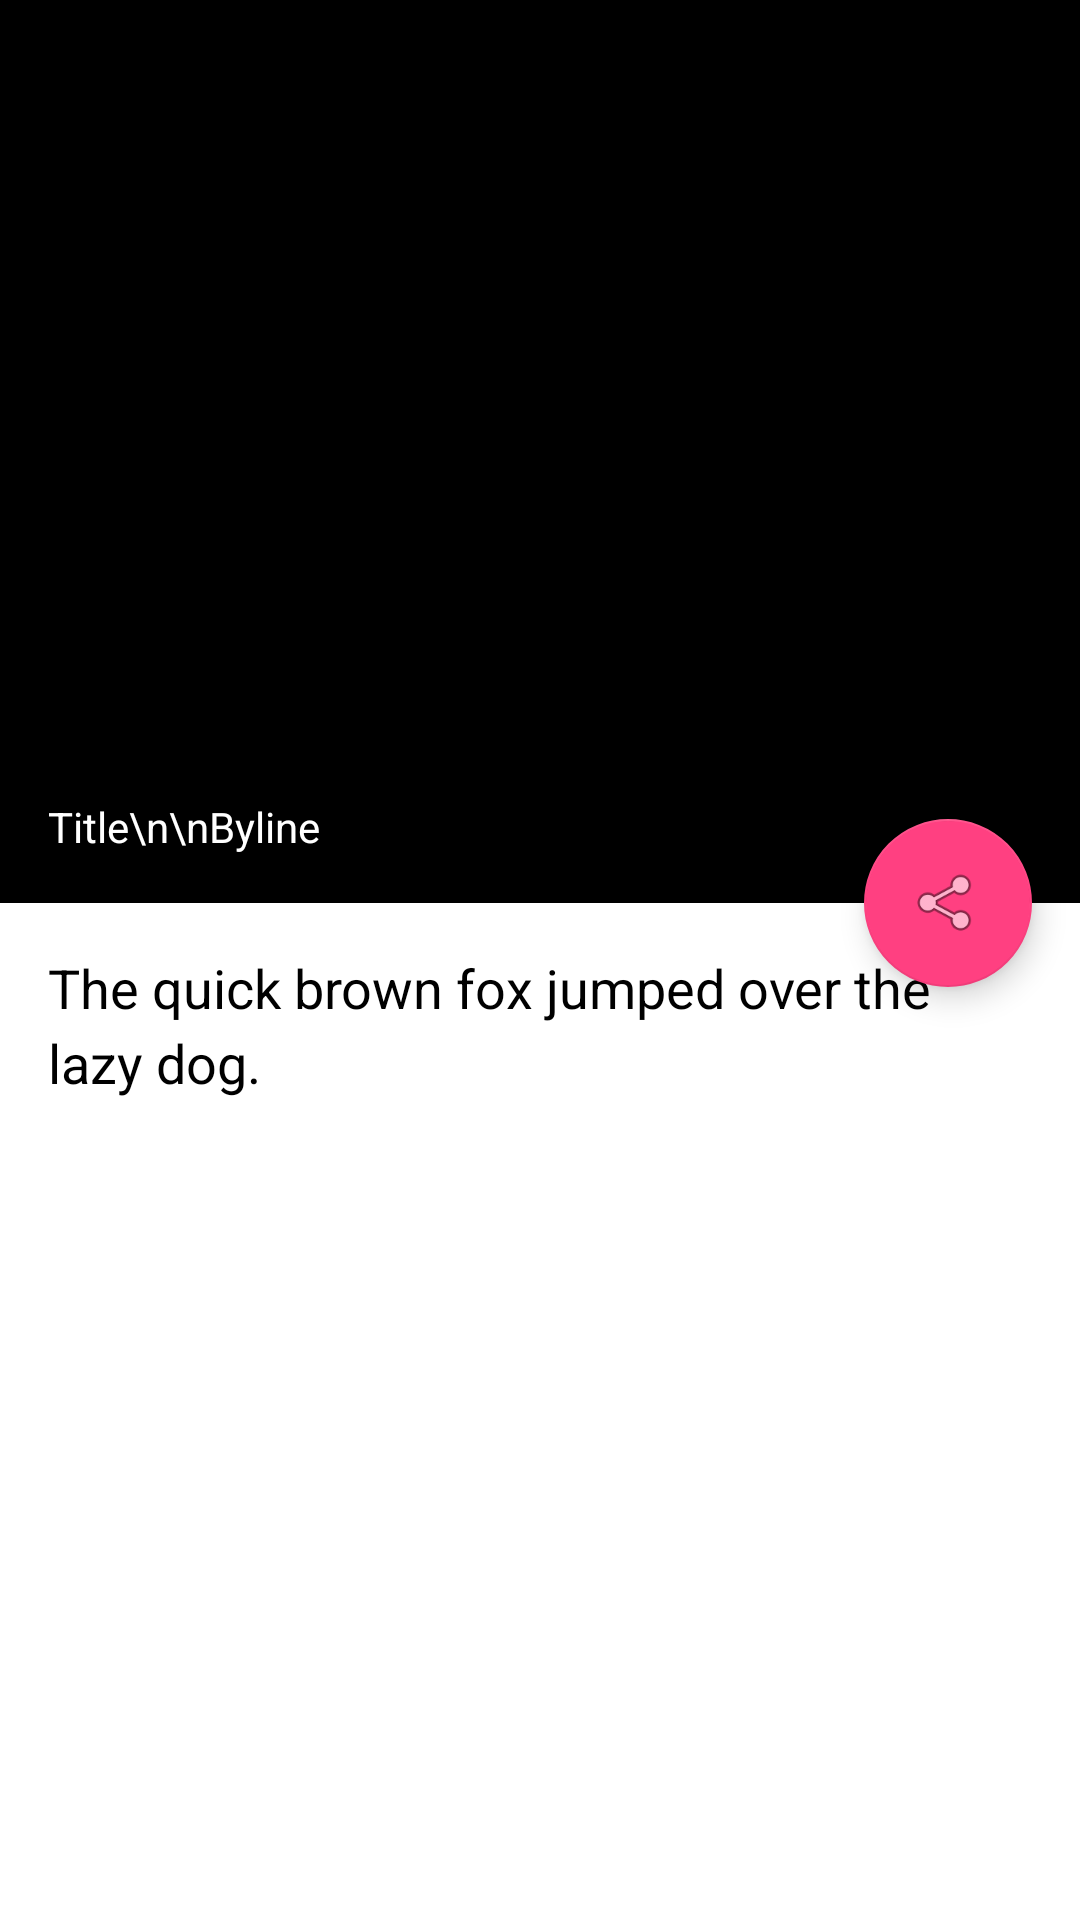

Where to tap for icons on this 1080w x 1920h app screen, as point (x, y):
share: point (948, 903)
